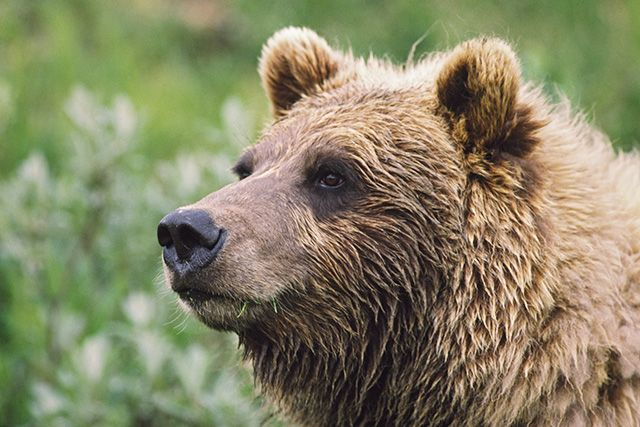bear: (152, 22, 534, 340)
